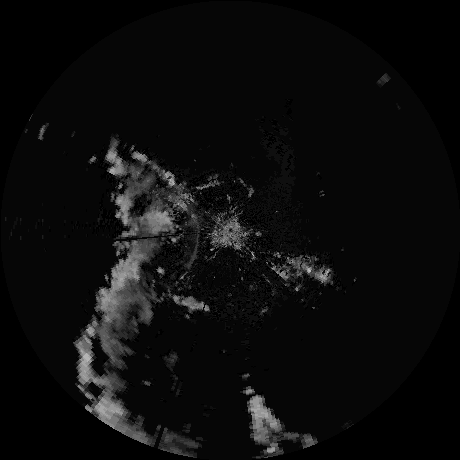frontgust: (183, 210, 201, 269)
